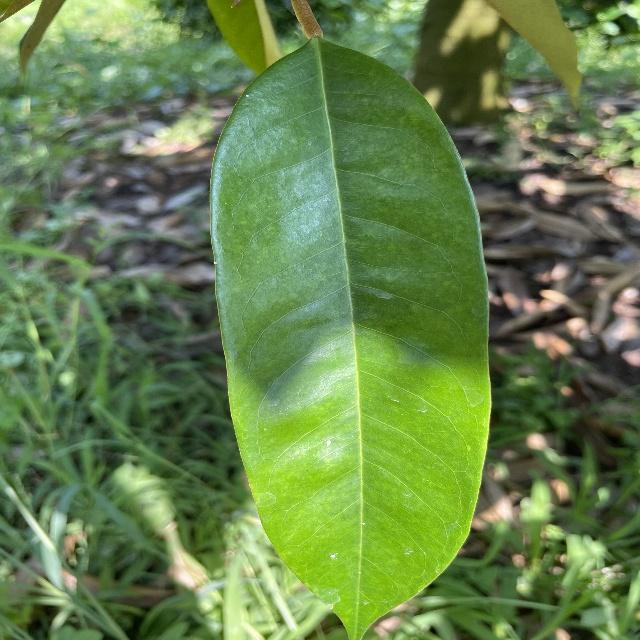No Disease: (203, 25, 502, 640)
